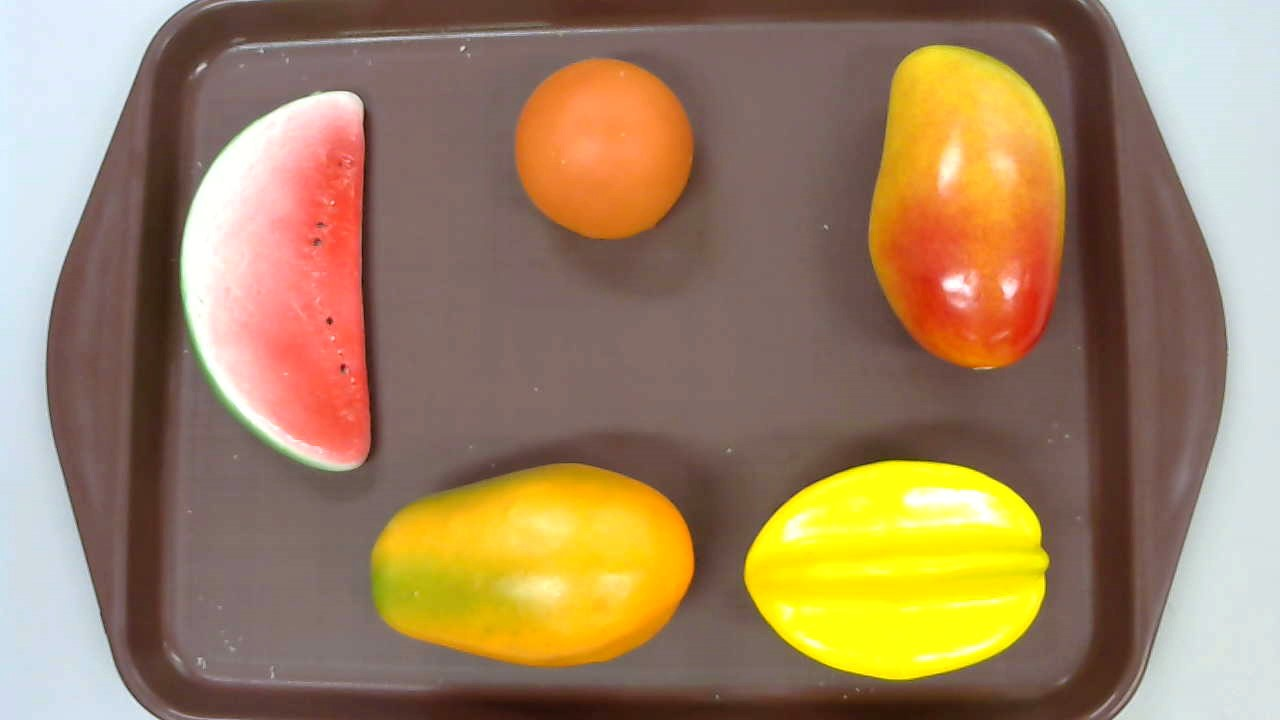bun: (514, 58, 694, 240)
papya: (370, 462, 695, 668)
red mango: (866, 45, 1066, 368)
star fruit: (744, 460, 1050, 679)
water melon: (179, 91, 371, 472)
